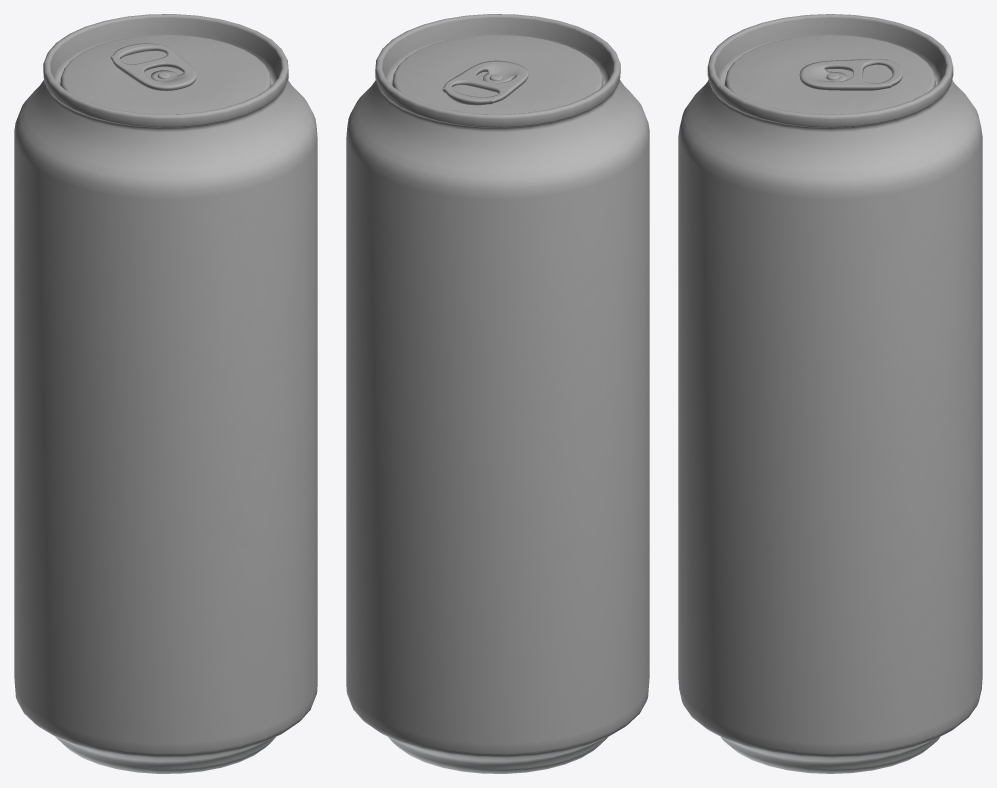
Rendered from EnergyDrinkCan.fbx.
3 renders of one model, left to right at view 1: azimuth 30°, elevation 25°; view 2: azimuth 150°, elevation 25°; view 3: azimuth 270°, elevation 25°, orthographic.
Visible parts, largest first — view 1: CanEnergyDrink; view 2: CanEnergyDrink; view 3: CanEnergyDrink.
Part boxes in pixels (left/top/right/bottom): CanEnergyDrink: left=14, top=14, right=317, bottom=773; CanEnergyDrink: left=346, top=14, right=649, bottom=773; CanEnergyDrink: left=678, top=14, right=982, bottom=773.
Bounding box in the file's own units: 6.53 × 15.77 × 6.53.
Materials: 1 (1 with a texture image).
